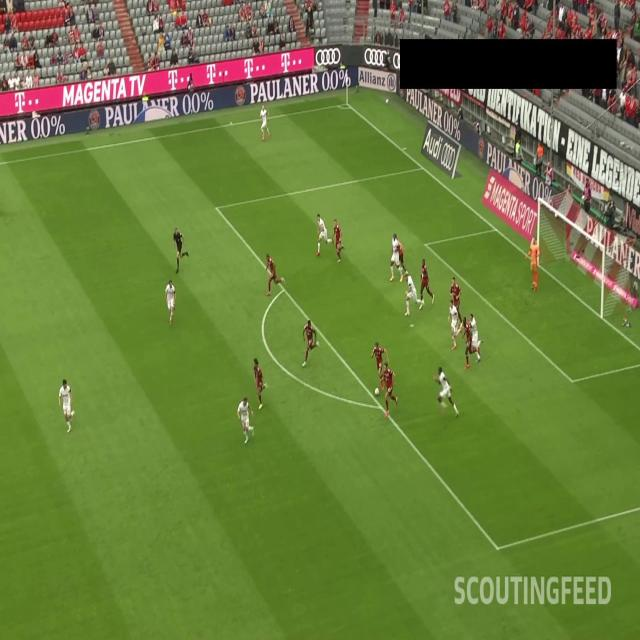ball: (373, 384, 381, 399)
player: (431, 366, 460, 419), (56, 376, 78, 435), (232, 394, 257, 445), (262, 247, 286, 299), (459, 315, 481, 371), (250, 355, 270, 415), (381, 358, 398, 421), (402, 268, 423, 317), (370, 340, 390, 391), (301, 318, 321, 368), (523, 233, 539, 293), (448, 276, 466, 328), (419, 255, 436, 308), (388, 227, 404, 283), (315, 210, 334, 257), (470, 309, 485, 364), (448, 300, 463, 352), (162, 279, 178, 326), (331, 216, 345, 263), (394, 236, 408, 280), (258, 99, 272, 141)
referee: (172, 224, 190, 272)
